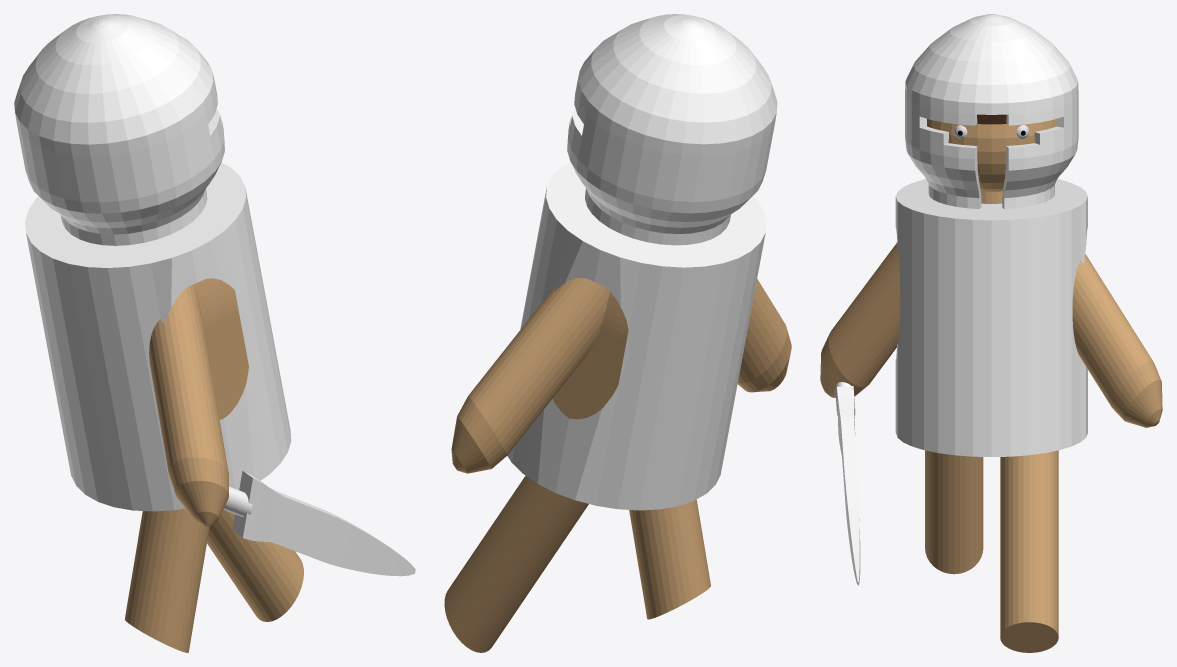
Rendered from knight.glb.
The picture shows the model from 3 angles, left to right: view 1: azimuth 30°, elevation 25°; view 2: azimuth 150°, elevation 25°; view 3: azimuth 270°, elevation 25°; orthographic projection. The views are drawn at different scales.
Visible parts, largest first — view 1: Cylinder.005, Cylinder, Cylinder.003, Cylinder.004, Cylinder.001, Cube; view 2: Cylinder.005, Cylinder, Cylinder.002, Cylinder.001, Cylinder.004, Cube, Cylinder.003; view 3: Cylinder.005, Cylinder, Cylinder.001, Cylinder.003, Cylinder.002, Cylinder.004, Sphere.
Part boxes in pixels (box(x1,y1,x2,y2)): Cylinder.005: box(25, 162, 291, 511); Cylinder: box(14, 14, 224, 245); Cylinder.003: box(149, 284, 415, 576); Cylinder.004: box(125, 508, 209, 652); Cylinder.001: box(207, 510, 303, 621); Cube: box(194, 278, 248, 419); Cylinder.005: box(507, 162, 766, 510); Cylinder: box(567, 14, 777, 245); Cylinder.002: box(451, 277, 609, 473); Cylinder.001: box(444, 475, 588, 652); Cylinder.004: box(629, 499, 710, 619); Cube: box(552, 291, 628, 419); Cylinder.003: box(737, 279, 791, 392); Cylinder.005: box(895, 179, 1087, 457); Cylinder: box(905, 14, 1078, 209); Cylinder.001: box(1000, 450, 1058, 652); Cylinder.003: box(820, 242, 900, 585); Cylinder.002: box(1072, 254, 1162, 427); Cylinder.004: box(925, 450, 983, 574); Sphere: box(927, 119, 1056, 191).
Size of the model in its own units: 3.53 by 7.16 by 3.95.
